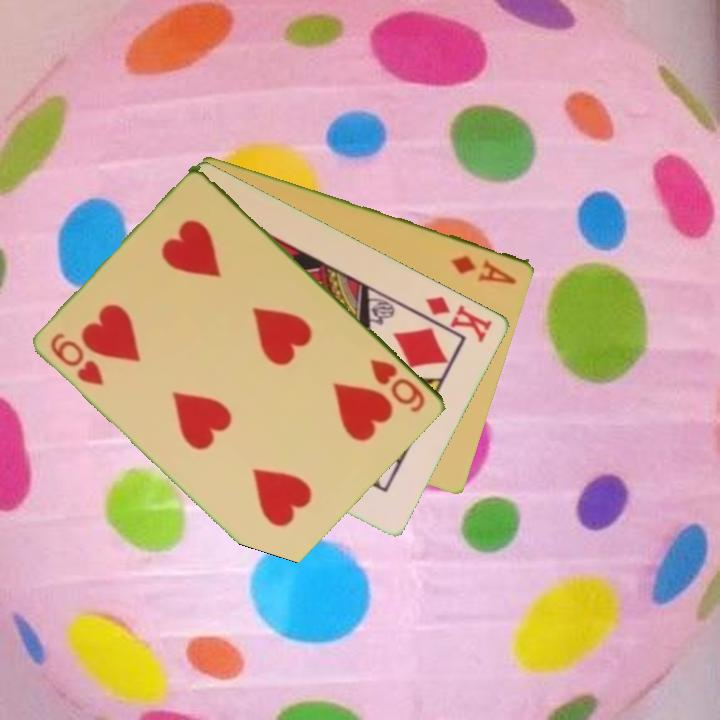6h: (367, 355, 429, 416), (47, 329, 107, 389)
Ad: (447, 251, 520, 287)
Kd: (422, 292, 496, 345)
